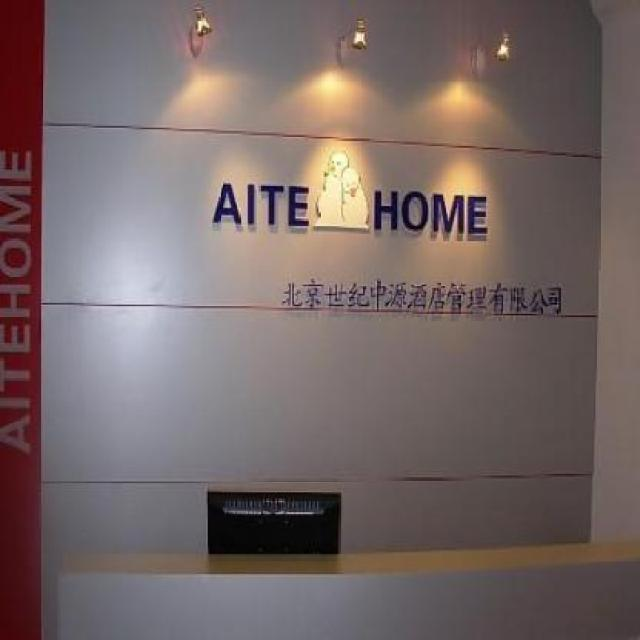frontdesk: (28, 503, 639, 639)
